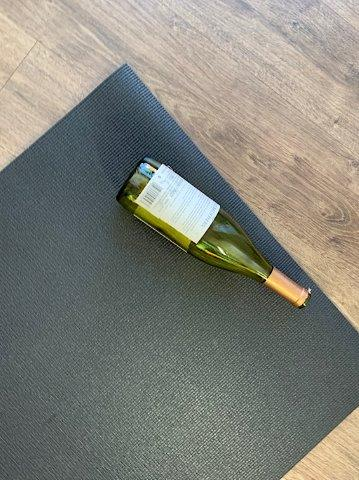botolkaca: (116, 157, 312, 309)
